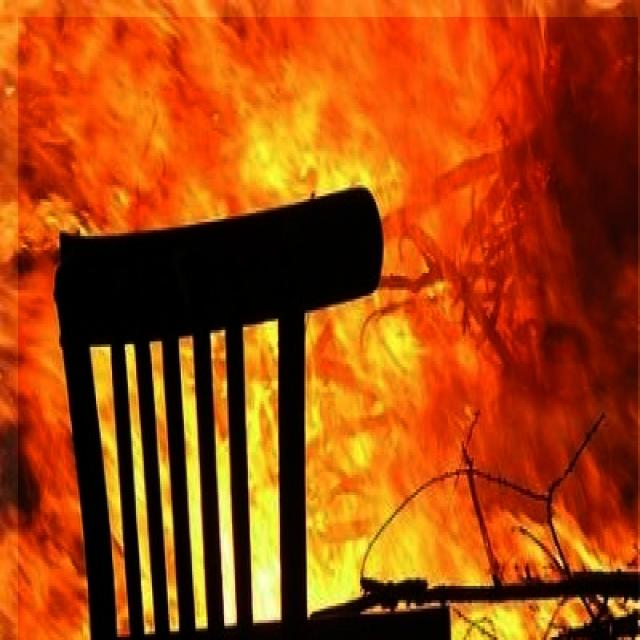Fire: (18, 17, 638, 640)
